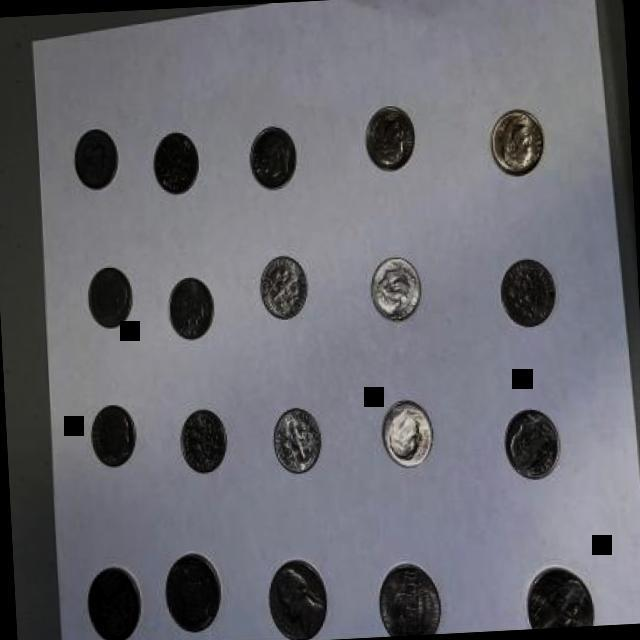Dime: (377, 395, 434, 473), (357, 104, 420, 174), (495, 256, 555, 328), (486, 108, 547, 177), (84, 401, 140, 470), (176, 407, 232, 476), (267, 406, 322, 476), (370, 254, 422, 328), (256, 253, 310, 322), (68, 121, 120, 192), (245, 124, 298, 192), (83, 264, 133, 332), (164, 274, 214, 340), (150, 132, 200, 196)
Nickel: (263, 557, 330, 640), (498, 406, 562, 490), (376, 558, 444, 637), (520, 564, 600, 630), (162, 550, 222, 636), (82, 563, 146, 640)
